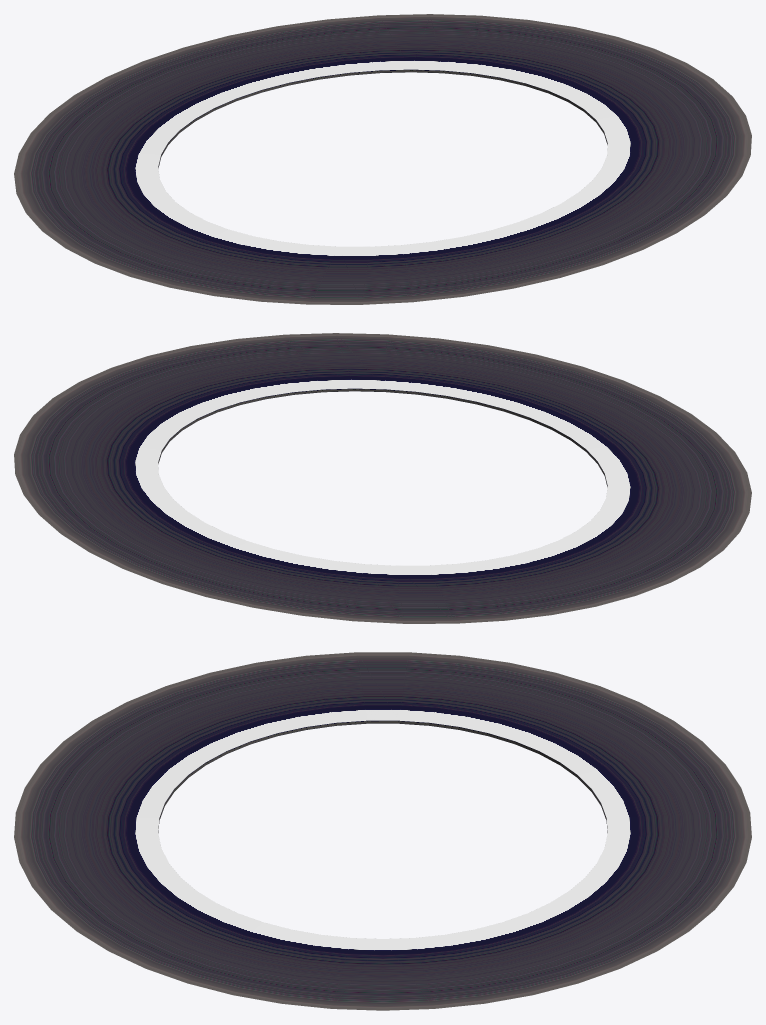
Rendered from JustSatRing.obj.
3 views of the same model, one above another, from view 1: azimuth 30°, elevation 25°; view 2: azimuth 150°, elevation 25°; view 3: azimuth 270°, elevation 25° (orthographic). The views are drawn at different scales.
Parts seen in each view (by area): view 1: SaturnRing_Torus.002; view 2: SaturnRing_Torus.002; view 3: SaturnRing_Torus.002.
Boxes of the visible parts, x1,y1,x2,y2 form: SaturnRing_Torus.002: (14,14,751,304); SaturnRing_Torus.002: (14,333,751,623); SaturnRing_Torus.002: (14,652,751,1010).
Bounding box in the file's own units: 4.32 × 0.017 × 3.76.
1 material, 1 textured.
